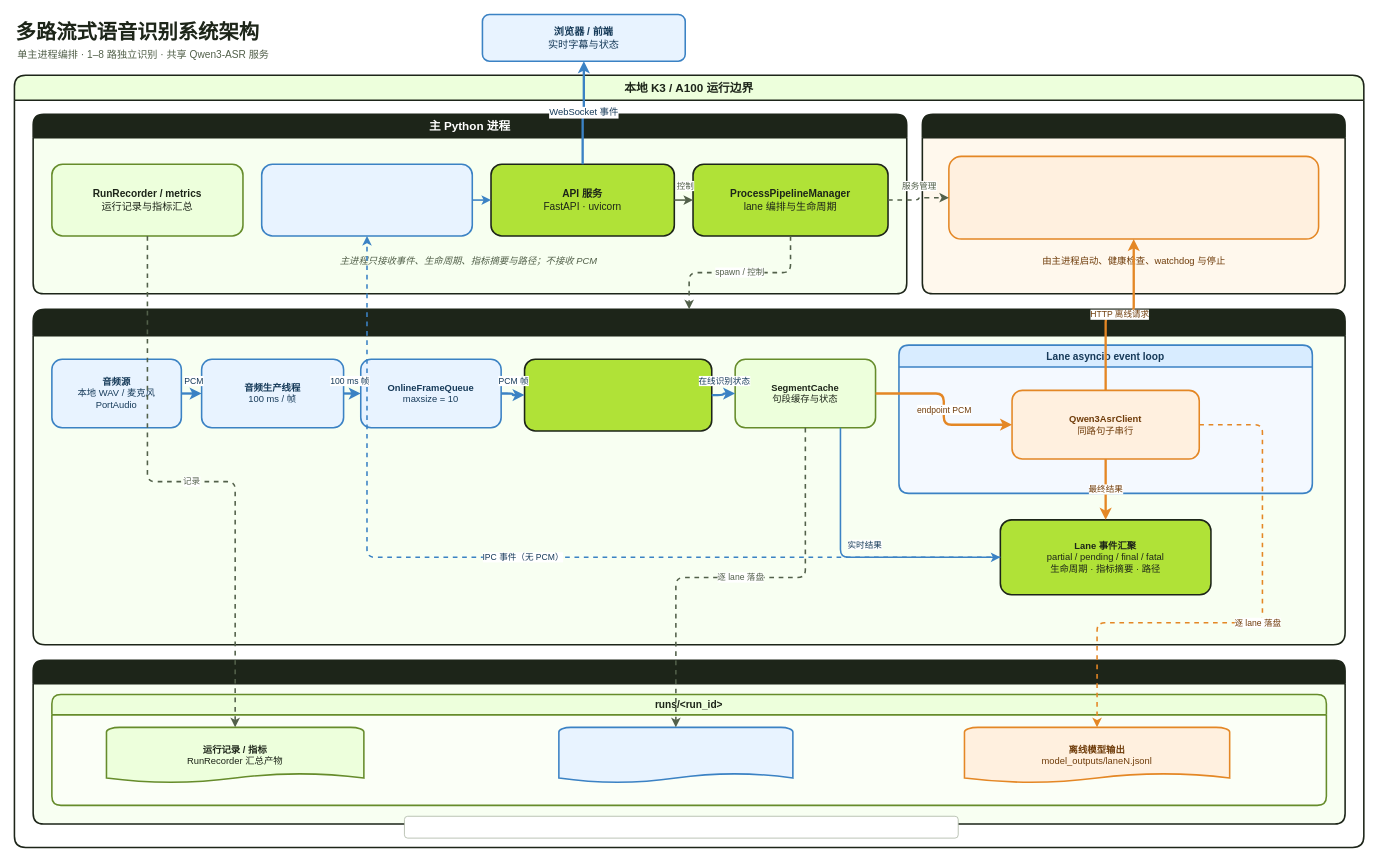
Image size: 1377x861. Some labels were removed from this diagram. Each missing label, with the box of its shape:
FrontendEventBus partial · pending · final · fatal: (261, 163, 473, 236)
Lane i 子进程 × N（N = 1…8，multiprocessing spawn）: (32, 308, 1346, 645)
llama-server · Qwen3-ASR HTTP · 固定 -np 4 多 lane 并发请求: (948, 155, 1319, 239)
runs 运行产物: (32, 659, 1346, 824)
共享离线识别服务（唯一实例）: (921, 113, 1346, 294)
在线结果 results/laneN.txt: (558, 726, 793, 784)
链路图例 ━━ 在线 PCM / 实时事件 ━━ HTTP 离线识别 ┅┅ 控制 / IPC / 落盘: (404, 815, 958, 838)
长期 Zipformer 消费线程 sherpa-onnx + SpaceMiT EP A100 CPU 计算: (523, 358, 712, 431)
